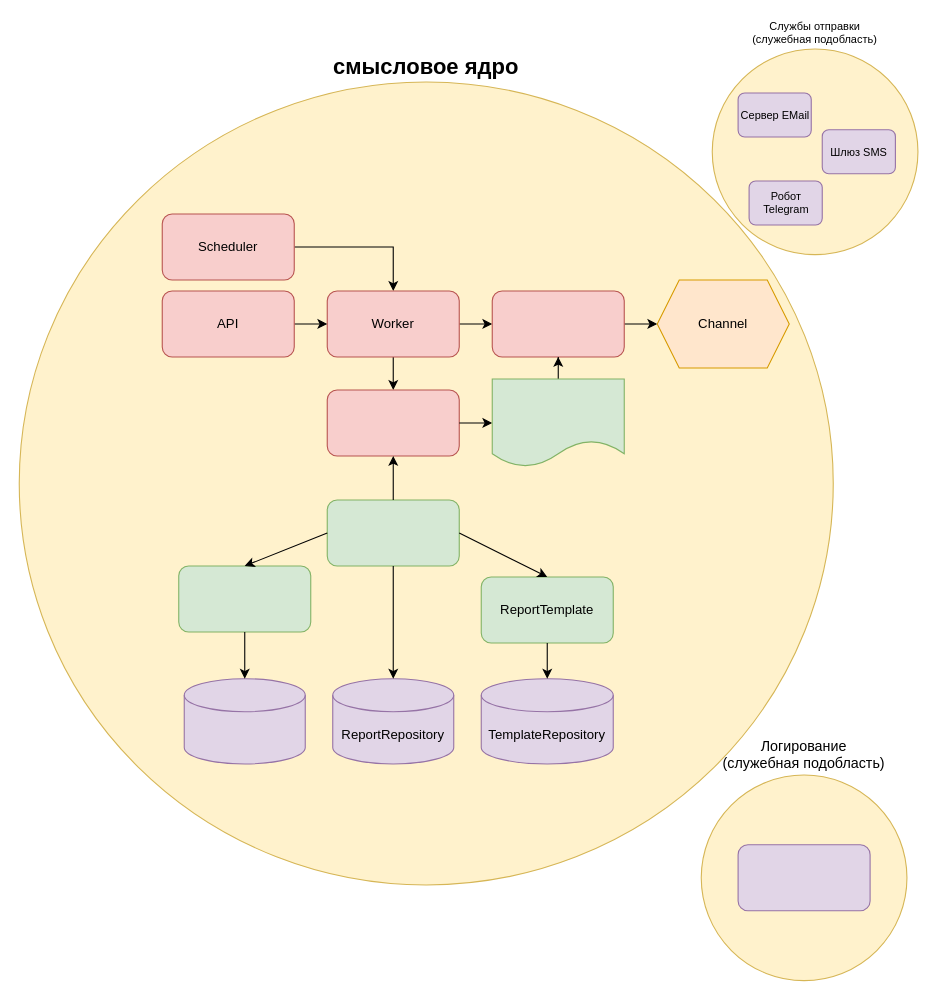
Image size: 937x1000. Some labels were removed from this diagram. The shapes that lost their labels are listed below. From the top down, each one's centre as x and y in pixels, then its label:
the point at 557,323: Sender
the point at 392,422: Builder
the point at 557,422: Message
the point at 392,532: Report
the point at 244,598: ReportData
the point at 244,721: DataRepository
the point at 803,877: Logger
